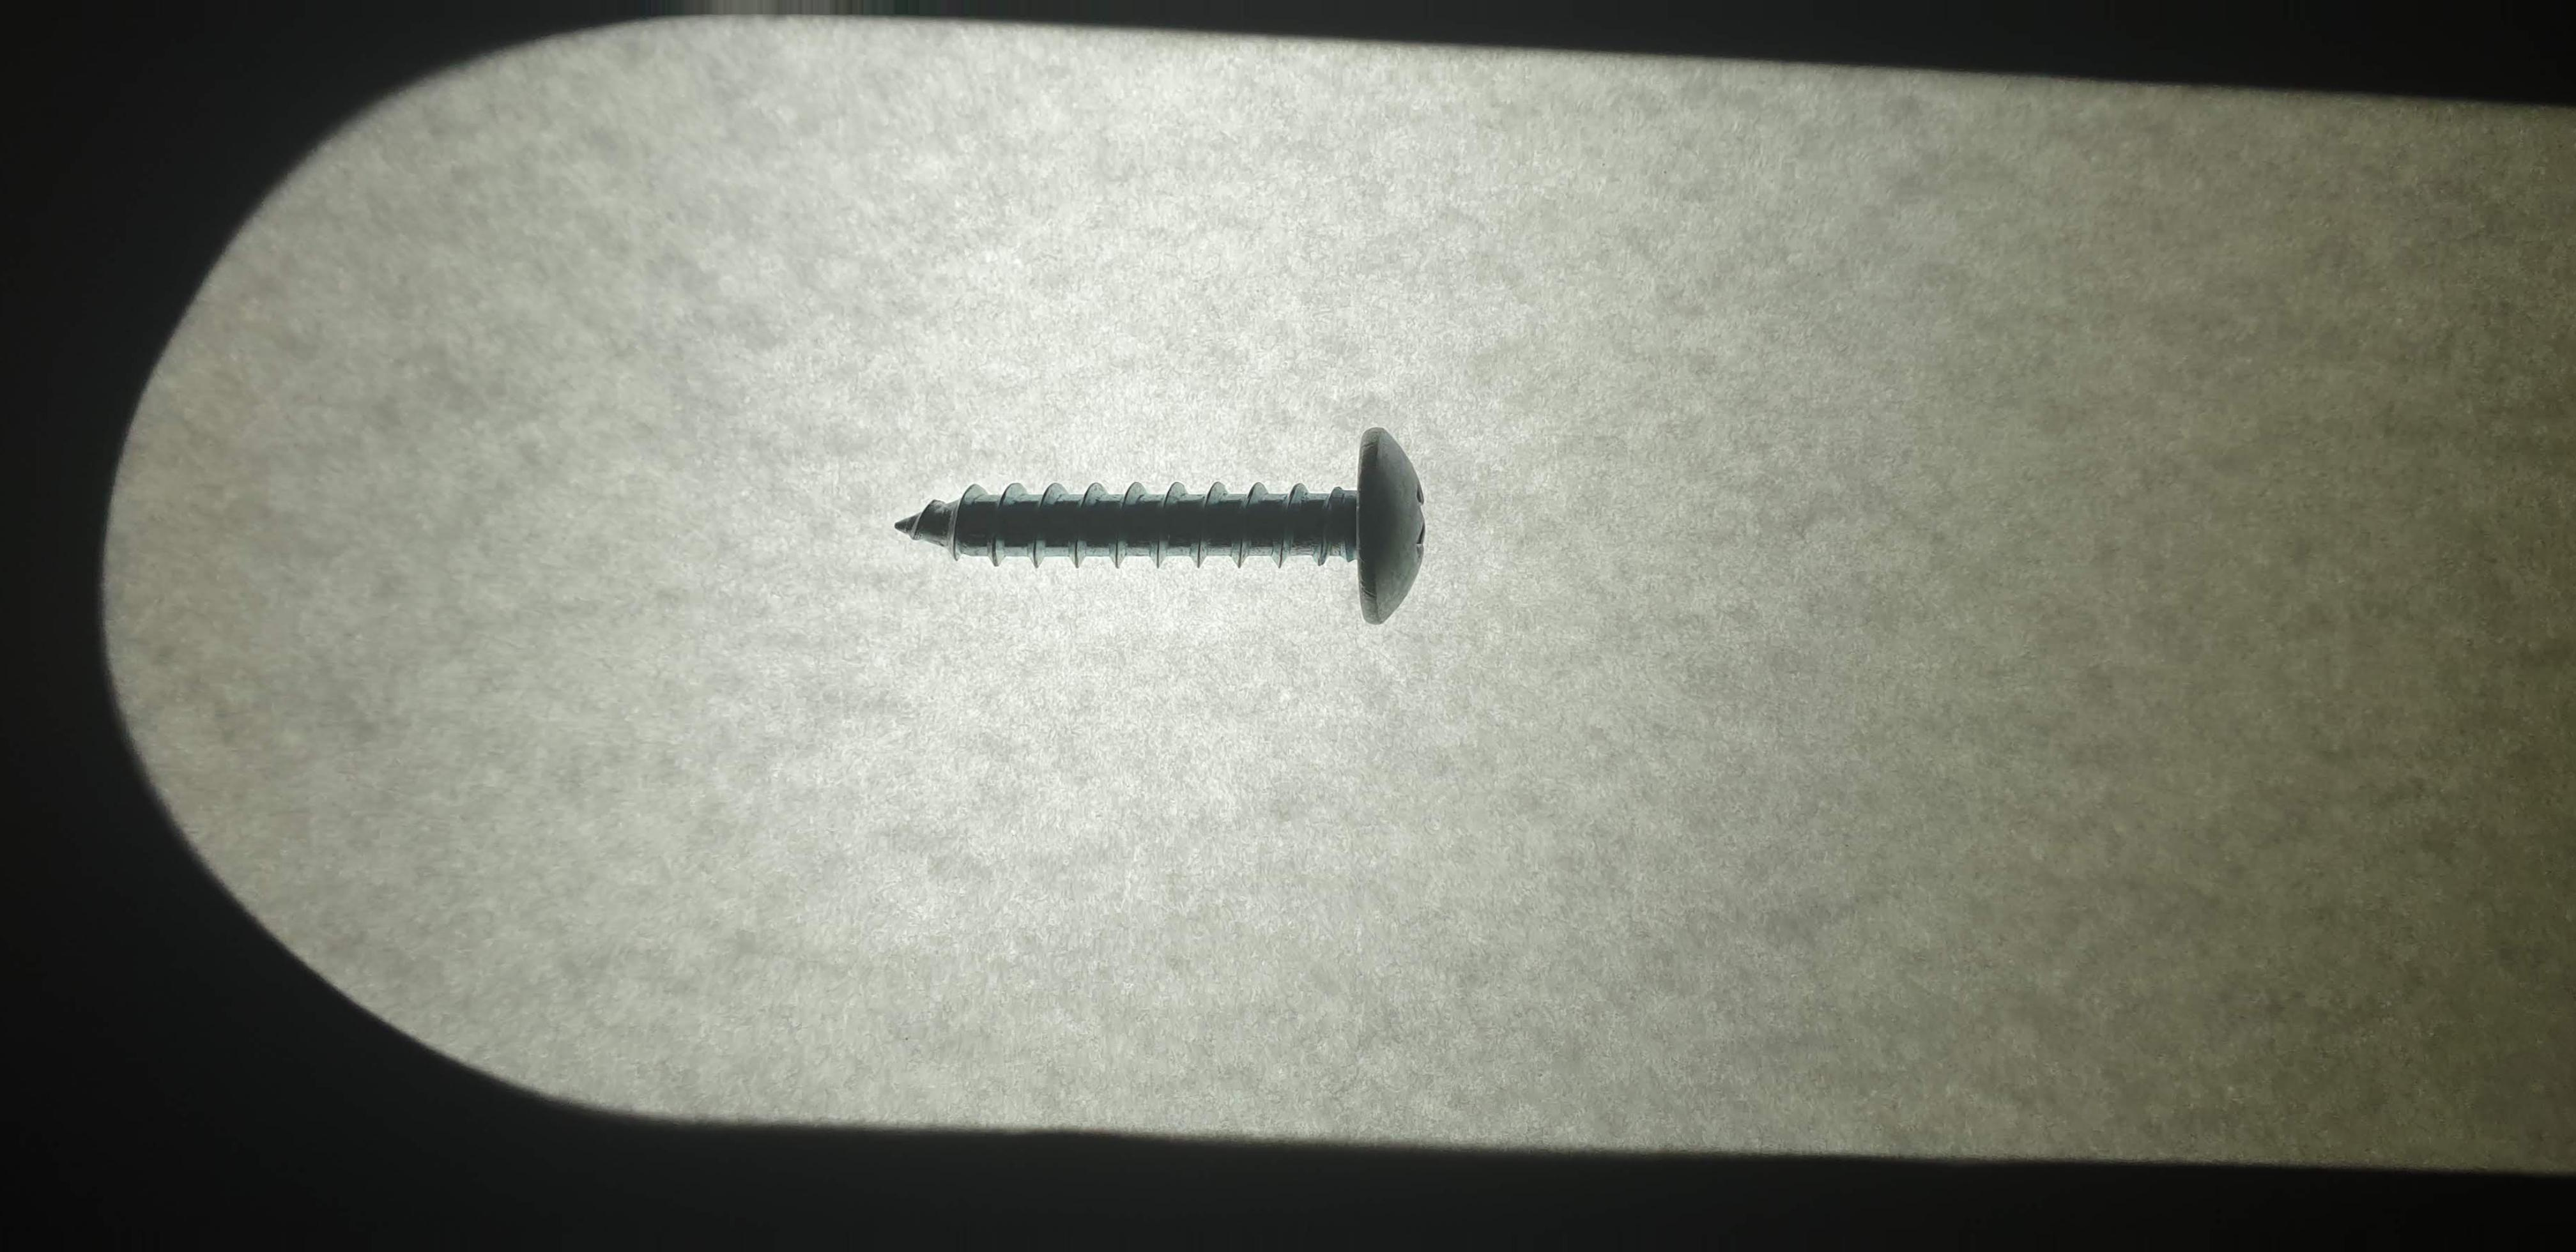S002: (828, 396, 1533, 661)
